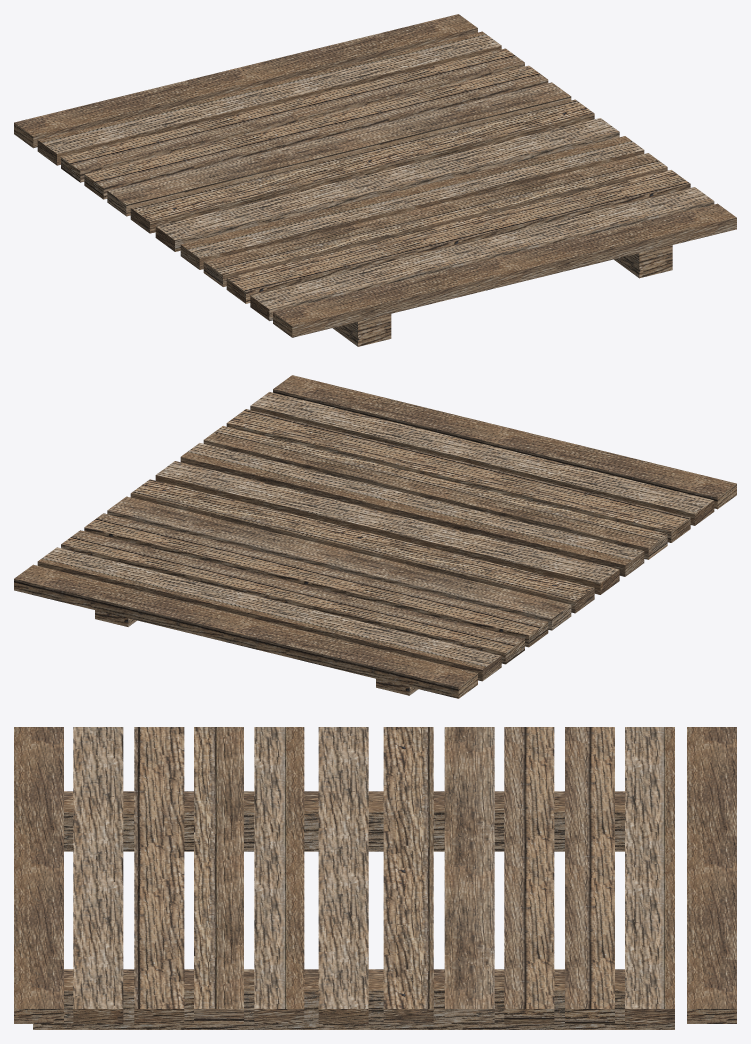
Rendered from piso.fbx.
The picture shows the model from 3 angles, top to bottom: view 1: azimuth 30°, elevation 25°; view 2: azimuth 150°, elevation 25°; view 3: azimuth 270°, elevation 25°; orthographic projection. The views are drawn at different scales.
Parts seen in each view (by area): view 1: Cube.002; view 2: Cube.002; view 3: Cube.002.
Part boxes in pixels (x1=…): Cube.002: x1=14, y1=14, x2=736, y2=346; Cube.002: x1=14, y1=375, x2=736, y2=698; Cube.002: x1=14, y1=727, x2=736, y2=1029.
Bounding box in the file's own units: 400 × 37.7 × 434.
1 material, 1 textured.
